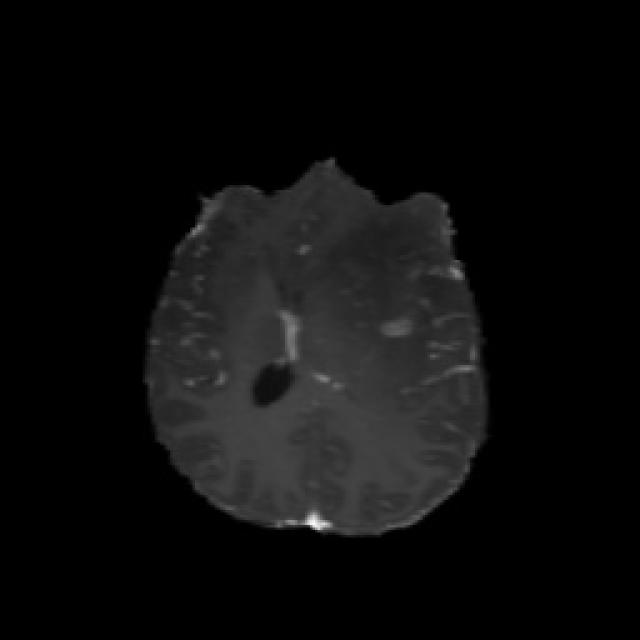negative: (380, 315, 418, 343)
